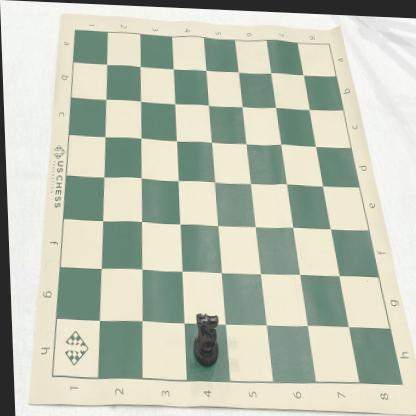black-knight: (189, 311, 218, 368)
